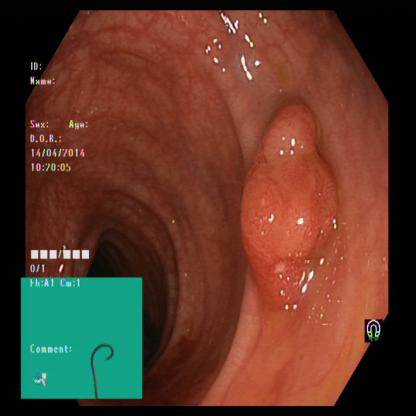Labels: (24, 55, 108, 276), (20, 276, 146, 398), (364, 306, 390, 350)
Polyps: (241, 107, 346, 311)
